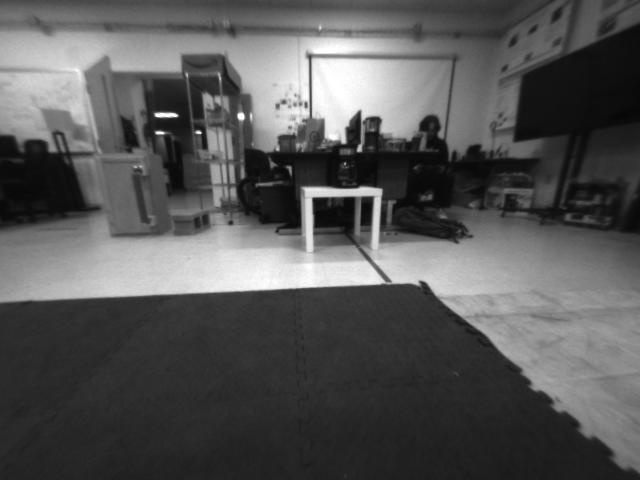coffee_pot: (328, 142, 363, 192)
